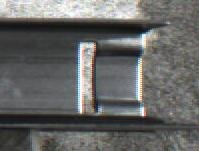press: (41, 13, 192, 135)
